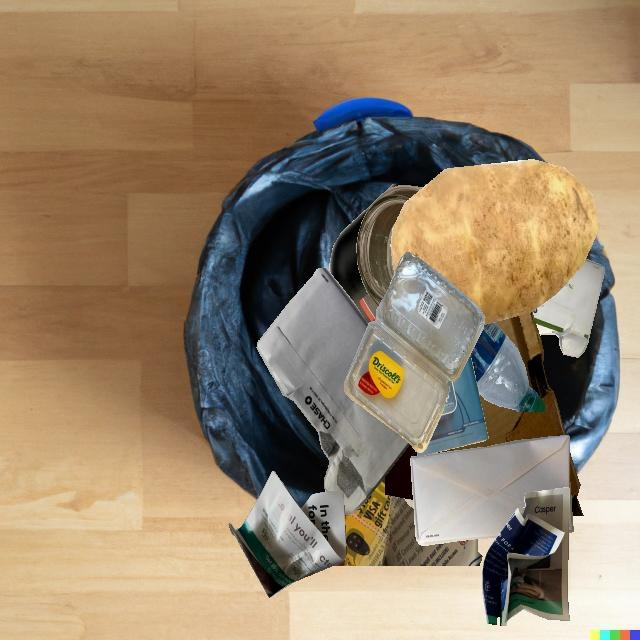biowaste: (390, 159, 600, 325)
cardboard: (411, 396, 570, 476)
glass: (356, 185, 423, 306), (547, 383, 548, 386)
paper: (256, 268, 410, 515), (410, 435, 574, 546), (229, 471, 347, 598), (333, 476, 482, 566), (482, 487, 570, 626), (417, 354, 488, 457), (532, 258, 604, 358), (404, 498, 414, 509)
plastic: (344, 252, 485, 453), (470, 322, 545, 412), (330, 198, 378, 324)
